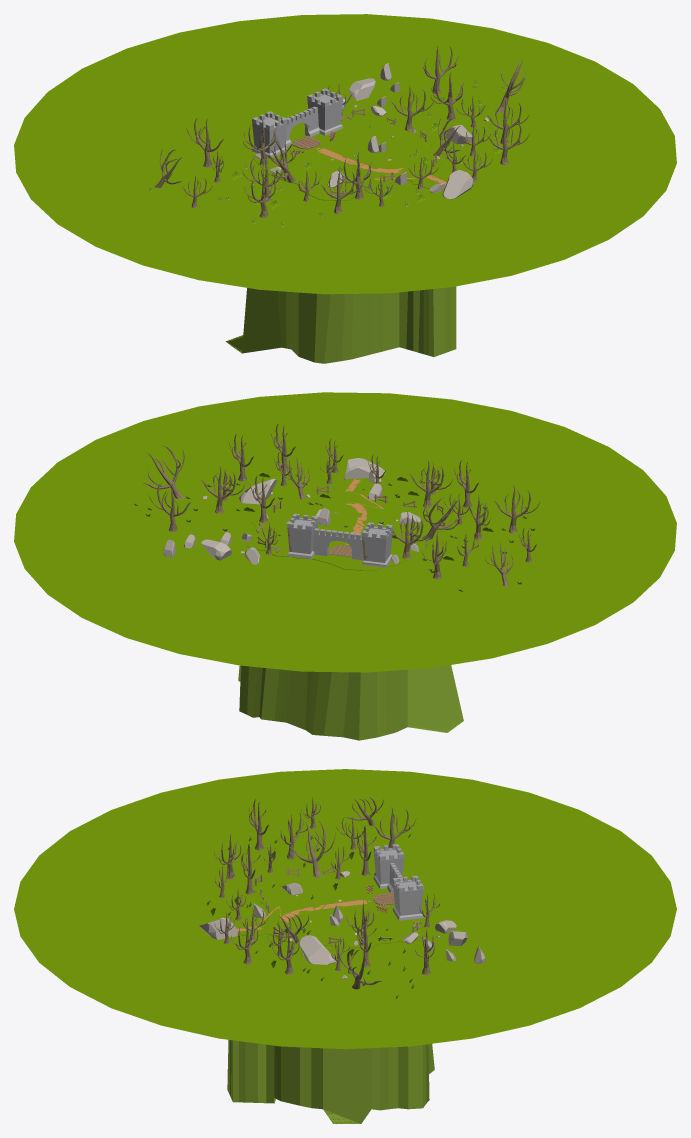
The model's file is Map 1_6.fbx.
3 renders of one model, top to bottom at view 1: azimuth 30°, elevation 25°; view 2: azimuth 150°, elevation 25°; view 3: azimuth 270°, elevation 25°, orthographic.
Visible parts, largest first — view 1: วงกลม.001, Plane, Plane.001, Cube.041, Icosphere.006; view 2: วงกลม.001, Plane, Plane.001, Cube.041, Trunk.013, Icosphere.006; view 3: วงกลม.001, Plane, Plane.001, Cube.041, Icosphere.010, Trunk.007.
Part boxes in pixels (box(x1,y1,x2,y2)): วงกลม.001: box(14, 14, 676, 294); Plane: box(225, 144, 456, 363); Plane.001: box(251, 111, 449, 200); Cube.041: box(252, 88, 343, 158); Icosphere.006: box(442, 170, 473, 199); วงกลม.001: box(14, 392, 676, 672); Plane: box(238, 487, 463, 740); Plane.001: box(246, 478, 451, 570); Cube.041: box(287, 513, 392, 567); Trunk.013: box(142, 445, 185, 498); Icosphere.006: box(344, 458, 385, 479); วงกลม.001: box(14, 769, 676, 1049); Plane: box(227, 890, 434, 1123); Plane.001: box(232, 870, 425, 947); Cube.041: box(373, 844, 423, 920); Icosphere.010: box(299, 935, 336, 964); Trunk.007: box(290, 821, 335, 877).
Bounding box in the file's own units: 42384 × 15022 × 42384.
Materials: 93 (91 with a texture image).
